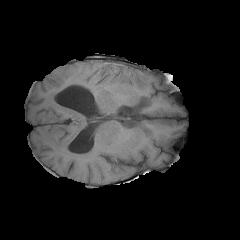glioma: (47, 63, 127, 103)
